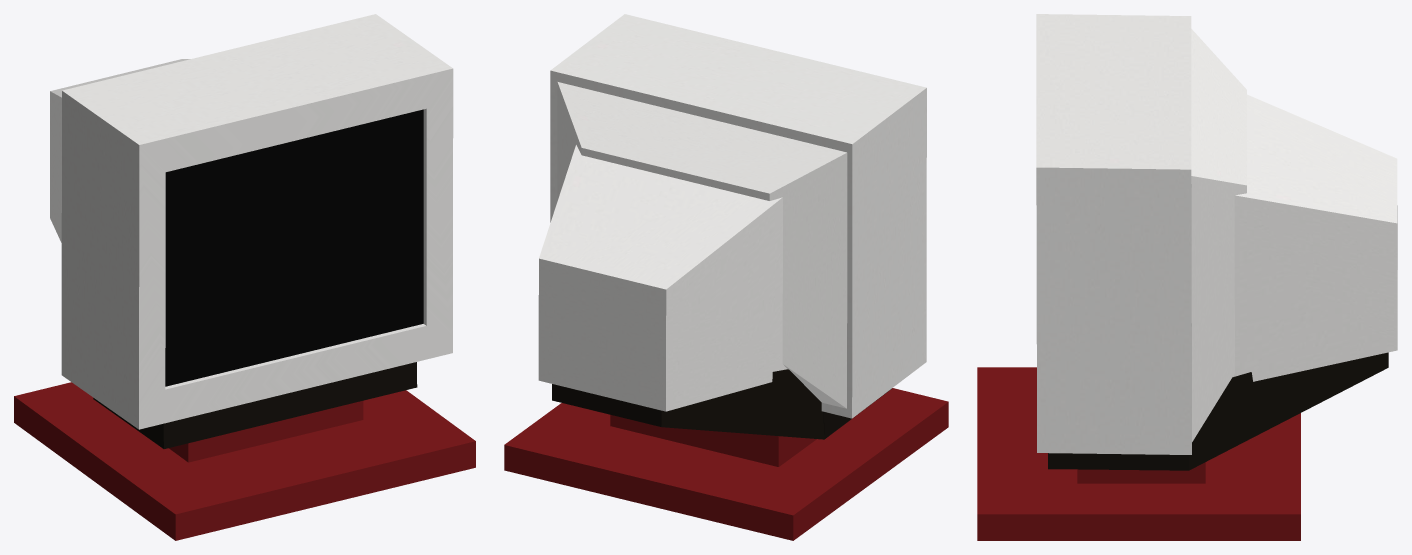
The model's file is OldComputerProp.fbx.
The picture shows the model from 3 angles, left to right: view 1: azimuth 30°, elevation 25°; view 2: azimuth 150°, elevation 25°; view 3: azimuth 270°, elevation 25°; orthographic projection. The views are drawn at different scales.
Visible parts, largest first — view 1: Cube.003, Cube.005, Cube.001, Cube; view 2: Cube.003, Cube.001, Cube; view 3: Cube.003, Cube.001, Cube.
Boxes of the visible parts, <box> form: Cube.003: <box>50,14,453,448</box>; Cube.005: <box>165,109,423,386</box>; Cube.001: <box>14,382,475,540</box>; Cube: <box>169,401,363,462</box>; Cube.003: <box>538,14,926,439</box>; Cube.001: <box>504,388,948,540</box>; Cube: <box>610,415,816,466</box>; Cube.003: <box>1036,14,1397,470</box>; Cube.001: <box>977,367,1300,540</box>; Cube: <box>1077,462,1205,483</box>.
Size of the model in its own units: 359 by 411 by 415.
